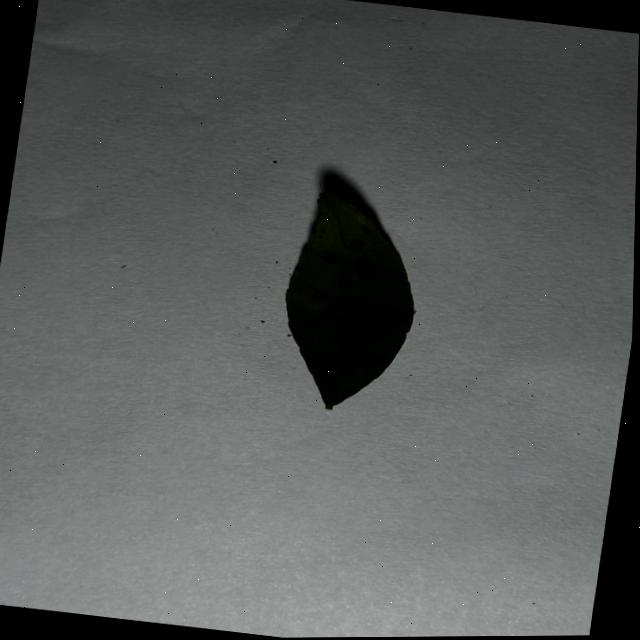sooty_mold: (284, 191, 413, 407)
